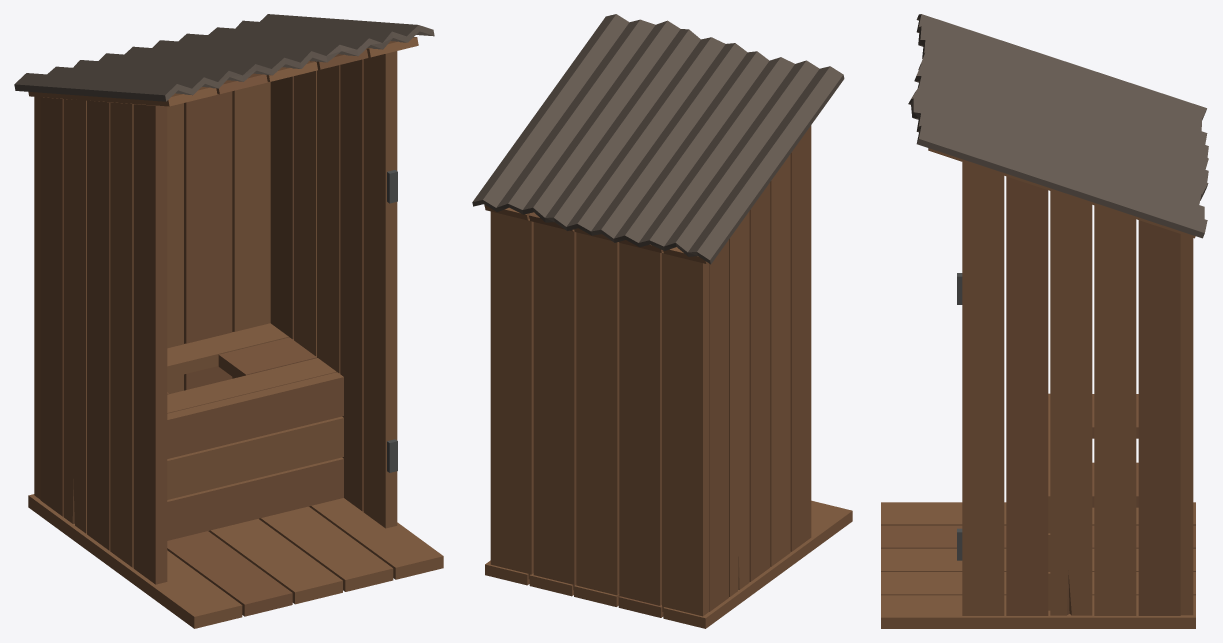
Rendered from Mesh_Props_Toilet_01.obj.
3 renders of one model, left to right at view 1: azimuth 30°, elevation 25°; view 2: azimuth 150°, elevation 25°; view 3: azimuth 270°, elevation 25°, orthographic. The views are drawn at different scales.
Parts seen in each view (by area): view 1: Mesh_Props_Toilet_01_M_LowPolyFarm_MAIN; view 2: Mesh_Props_Toilet_01_M_LowPolyFarm_MAIN; view 3: Mesh_Props_Toilet_01_M_LowPolyFarm_MAIN.
Boxes of the visible parts, x1,y1,x2,y2 form: Mesh_Props_Toilet_01_M_LowPolyFarm_MAIN: (14, 14, 443, 628); Mesh_Props_Toilet_01_M_LowPolyFarm_MAIN: (472, 14, 852, 628); Mesh_Props_Toilet_01_M_LowPolyFarm_MAIN: (881, 14, 1208, 628).
Size of the model in its own units: 1.4 by 2.65 by 1.56.
